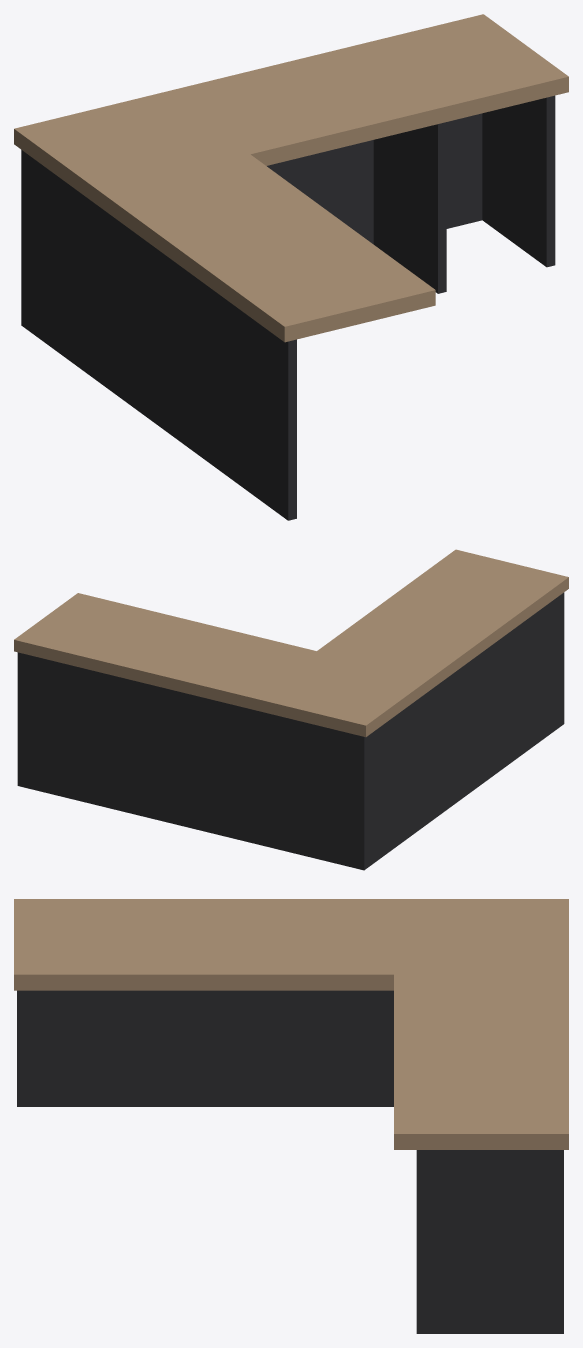
File: 08_office_desk_4_coner.glb
3 views of the same model, one above another, from view 1: azimuth 30°, elevation 25°; view 2: azimuth 150°, elevation 25°; view 3: azimuth 270°, elevation 25° (orthographic). The views are drawn at different scales.
Visible parts, largest first — view 1: TableDestructible_Office_Desk_4_Alt; view 2: TableDestructible_Office_Desk_4_Alt; view 3: TableDestructible_Office_Desk_4_Alt.
Boxes of the visible parts, x1=… form: TableDestructible_Office_Desk_4_Alt: x1=14, y1=14, x2=568, y2=520; TableDestructible_Office_Desk_4_Alt: x1=14, y1=549, x2=568, y2=870; TableDestructible_Office_Desk_4_Alt: x1=14, y1=899, x2=568, y2=1333.
Size of the model in its own units: 2.38 by 0.9509 by 2.38.
